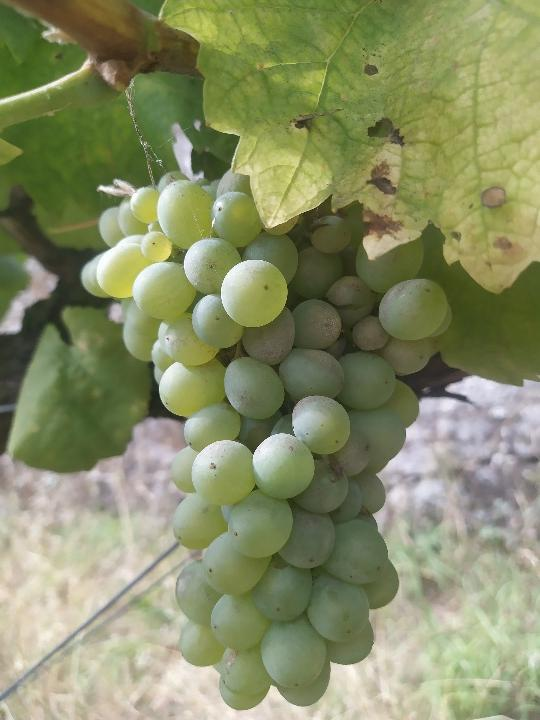grape: (75, 166, 451, 710)
